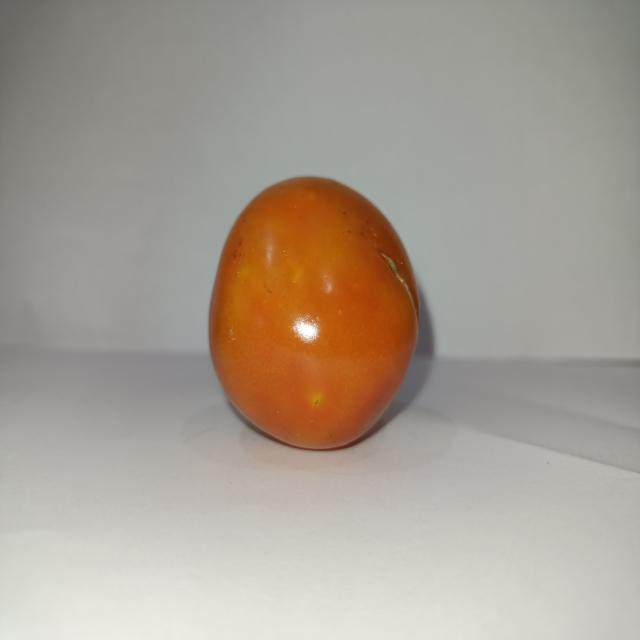Red: (206, 174, 421, 451)
